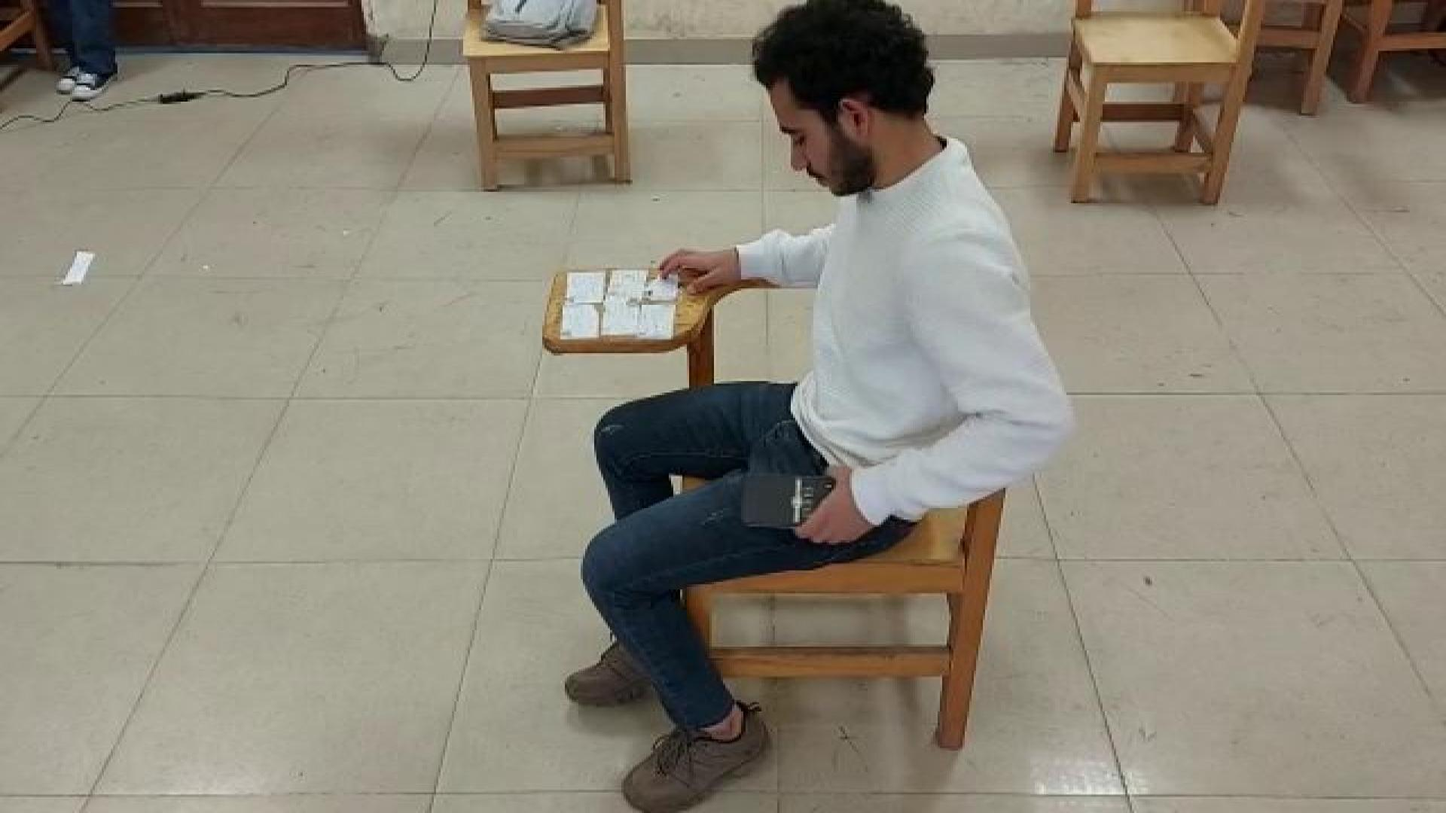phone: (734, 469, 856, 531)
